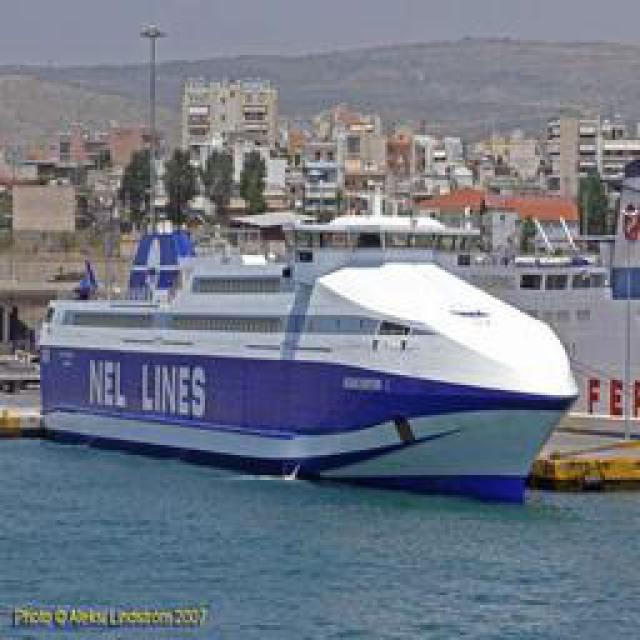Ship: (32, 213, 585, 488)
